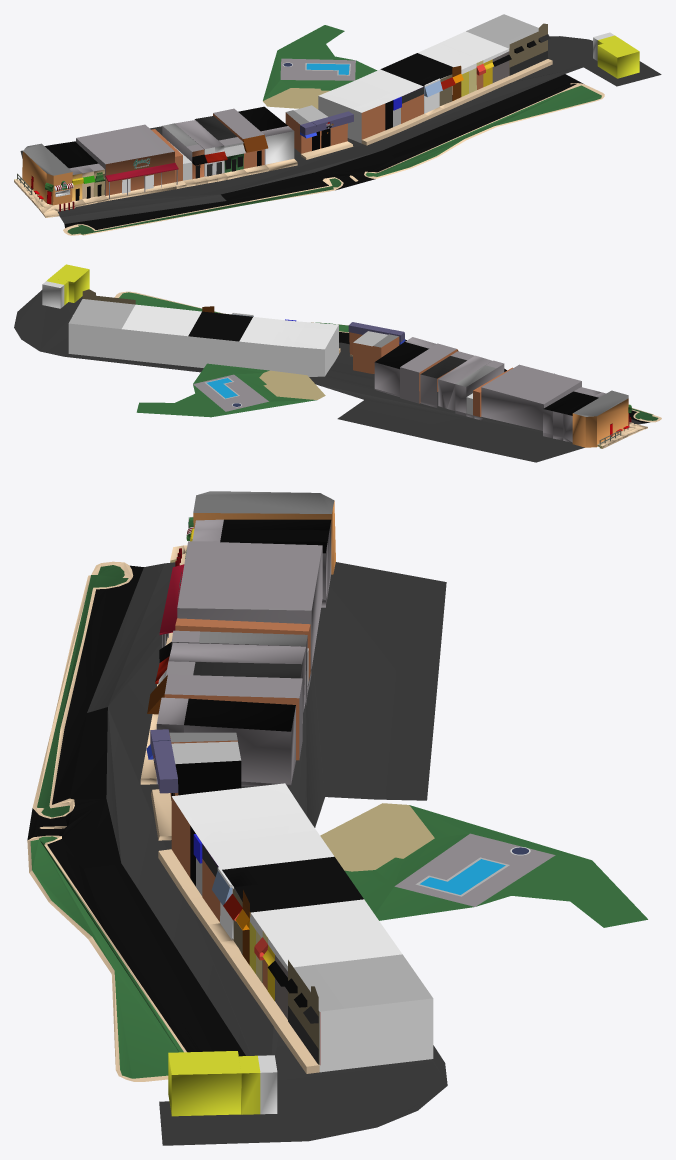
File: isoshops.glb
3 views of the same model, one above another, from view 1: azimuth 30°, elevation 25°; view 2: azimuth 150°, elevation 25°; view 3: azimuth 270°, elevation 25° (orthographic). The views are drawn at different scales.
Parts seen in each view (by area): view 1: Cape Shopping Center, Cape Shopping Center.008, Cape Shopping Center.001, Cape Shopping Center.003, Cape Shopping Center.005, Cape Shopping Center.002; view 2: Cape Shopping Center, Cape Shopping Center.008, Cape Shopping Center.001, Cape Shopping Center.003, Cape Shopping Center.005; view 3: Cape Shopping Center, Cape Shopping Center.008, Cape Shopping Center.003, Cape Shopping Center.001.
Part boxes in pixels (x1,y1,x2,y2): Cape Shopping Center: (14, 14, 661, 235); Cape Shopping Center.008: (76, 124, 174, 195); Cape Shopping Center.001: (213, 108, 268, 168); Cape Shopping Center.003: (294, 105, 353, 151); Cape Shopping Center.005: (285, 110, 310, 153); Cape Shopping Center.002: (300, 122, 353, 159); Cape Shopping Center: (14, 264, 661, 462); Cape Shopping Center.008: (481, 364, 581, 430); Cape Shopping Center.001: (400, 343, 458, 403); Cape Shopping Center.003: (348, 322, 392, 373); Cape Shopping Center.005: (373, 334, 399, 373); Cape Shopping Center: (27, 491, 647, 1145); Cape Shopping Center.008: (177, 541, 322, 669); Cape Shopping Center.003: (152, 740, 241, 800); Cape Shopping Center.001: (147, 674, 302, 760).
Size of the model in its own units: 0.6683 by 0.0479 by 0.2987.
56 materials, 4 textured.
